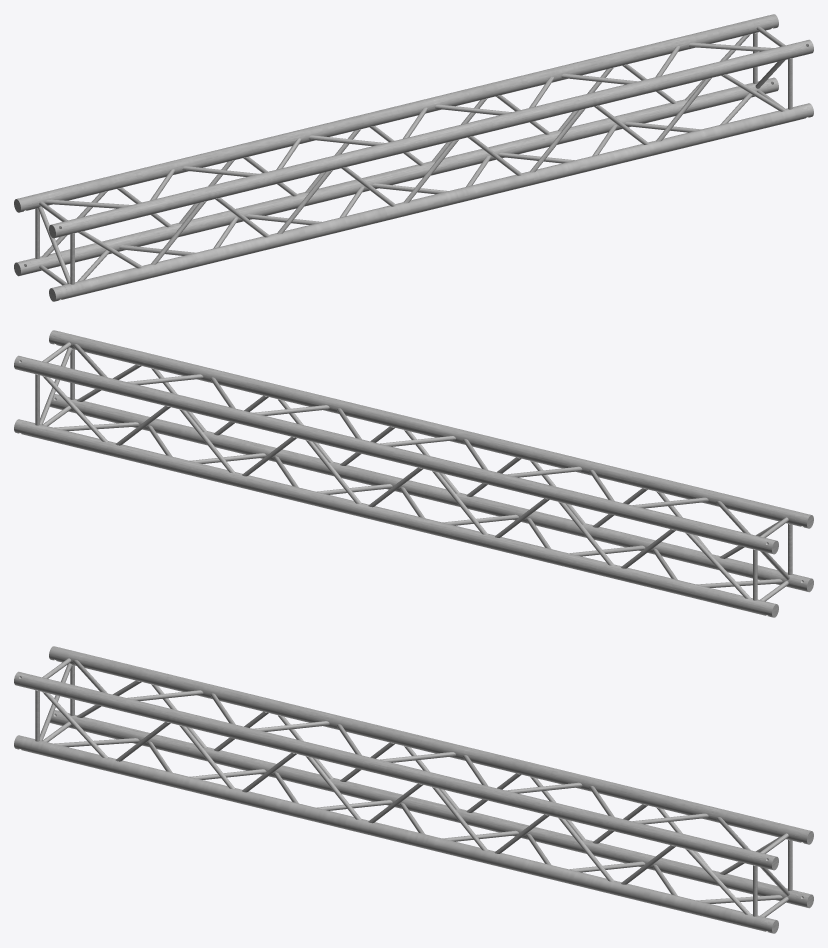
File: Milos_M290V_3000_Quattro_Truss_section-bddc0694.glb
The picture shows the model from 3 angles, top to bottom: view 1: azimuth 30°, elevation 25°; view 2: azimuth 150°, elevation 25°; view 3: azimuth 330°, elevation 25°; orthographic projection.
Parts seen in each view (by area): view 1: Geom3D; view 2: Geom3D; view 3: Geom3D.
Boxes of the visible parts, x1=… form: Geom3D: x1=14, y1=14, x2=813, y2=301; Geom3D: x1=14, y1=330, x2=813, y2=617; Geom3D: x1=14, y1=646, x2=813, y2=933.
Size of the model in its own units: 3 by 0.288 by 0.288.
Materials: 2 (1 with a texture image).
